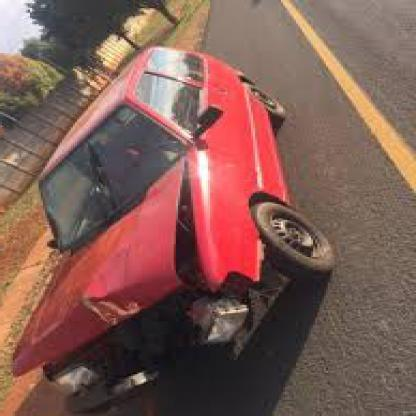dent: (84, 292, 140, 324)
